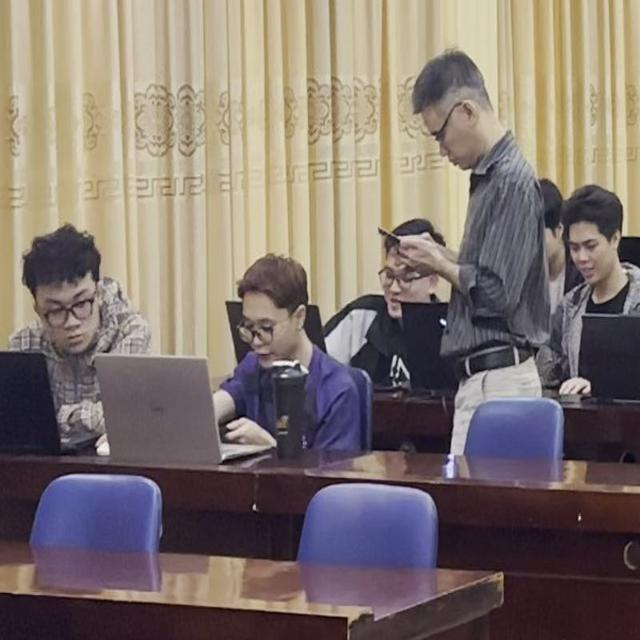Looking away: (16, 223, 124, 350), (232, 249, 316, 378), (376, 214, 447, 328), (558, 187, 633, 289)
